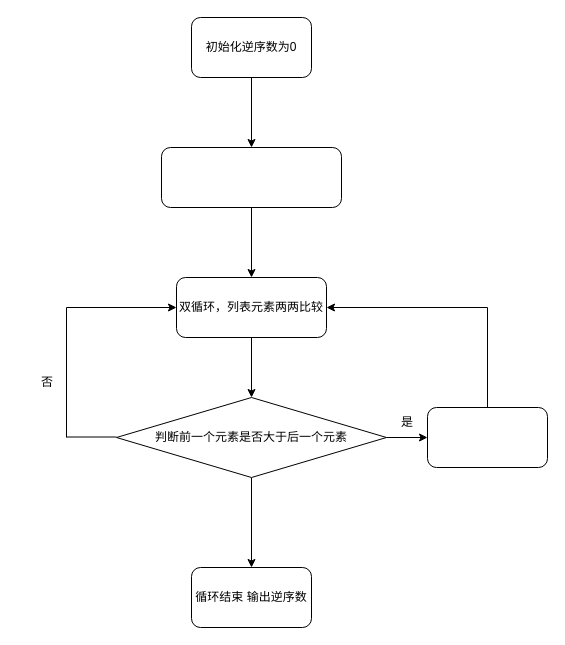
Image size: 565x645. Some labels were removed from this diagram. Here are the shapes that lost their labels. From the top down, the centre of each, then its label:
[251,177]: 除空格外，将输入状态的其他元素展开至flattened_state列表
[487,437]: 逆序数++
